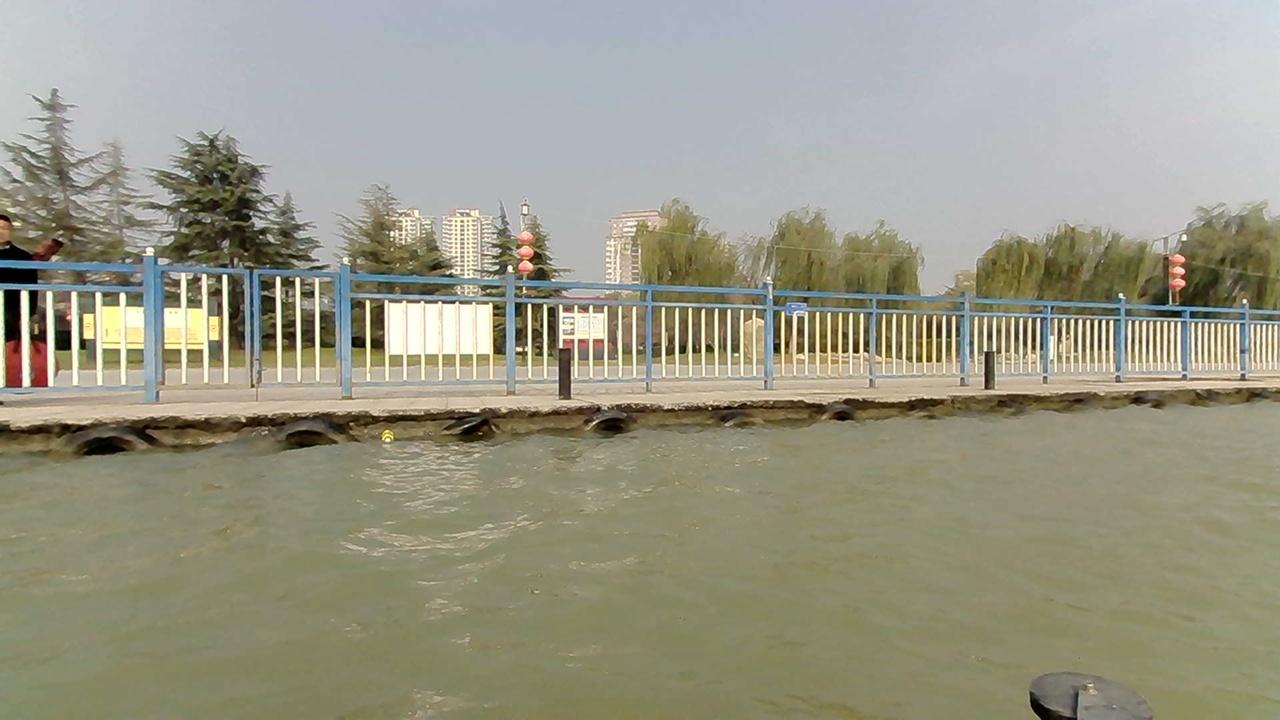bottle: (381, 428, 394, 441)
